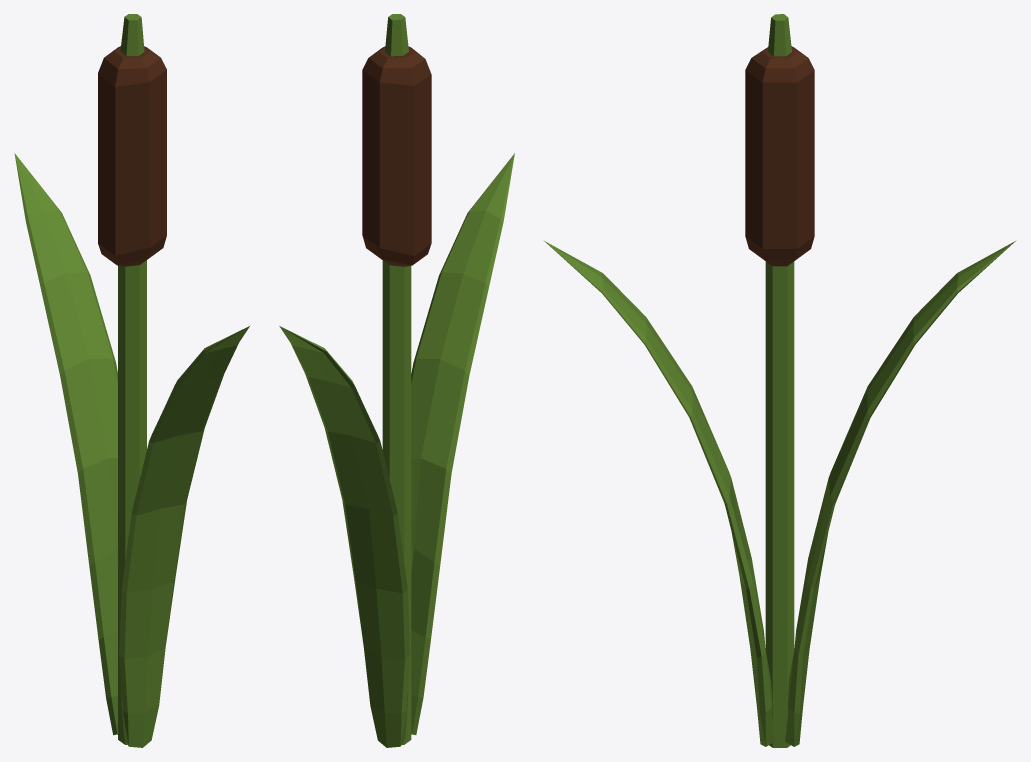
Rendered from Cattail.fbx.
3 renders of one model, left to right at view 1: azimuth 30°, elevation 25°; view 2: azimuth 150°, elevation 25°; view 3: azimuth 270°, elevation 25°, orthographic.
Visible parts, largest first — view 1: Cylinder; view 2: Cylinder; view 3: Cylinder.
Boxes of the visible parts, box(x1,y1,x2,y2) form: Cylinder: box(14, 14, 249, 747); Cylinder: box(279, 14, 514, 747); Cylinder: box(543, 14, 1016, 747).
Size of the model in its own units: 0.0337 by 0.2458 by 0.4161.
